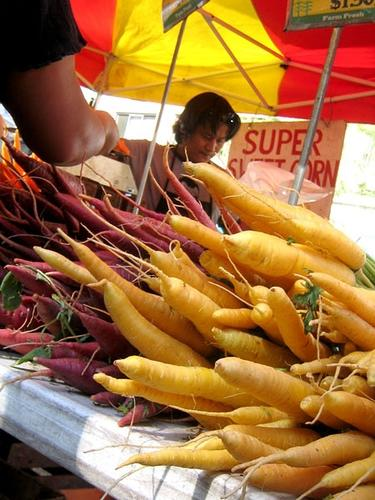carrot: (57, 227, 222, 358), (79, 196, 251, 310), (182, 145, 341, 261), (214, 151, 366, 271), (93, 238, 250, 350), (87, 277, 214, 369), (158, 212, 294, 290), (220, 430, 372, 499), (92, 372, 237, 431), (113, 356, 273, 409), (221, 230, 356, 287), (214, 357, 322, 424), (83, 430, 286, 464), (4, 176, 113, 233), (209, 282, 290, 350), (305, 350, 373, 425), (266, 287, 332, 362), (212, 308, 332, 344), (210, 327, 304, 372), (295, 451, 375, 500), (167, 240, 237, 295), (182, 419, 306, 450), (308, 272, 375, 328), (139, 222, 207, 268), (316, 300, 375, 352), (199, 250, 277, 289), (114, 448, 239, 472), (242, 464, 338, 495), (169, 404, 298, 426), (222, 424, 324, 450), (78, 194, 140, 236), (32, 245, 98, 284), (224, 248, 268, 305), (3, 341, 110, 364), (322, 390, 375, 436), (33, 294, 87, 334), (300, 395, 352, 430), (326, 351, 374, 388), (19, 266, 72, 296), (218, 266, 255, 306), (0, 329, 55, 355), (290, 358, 352, 377), (342, 375, 374, 400), (332, 482, 375, 500), (286, 279, 310, 310), (357, 349, 375, 376), (320, 330, 350, 344), (308, 319, 337, 332), (320, 376, 344, 390)
